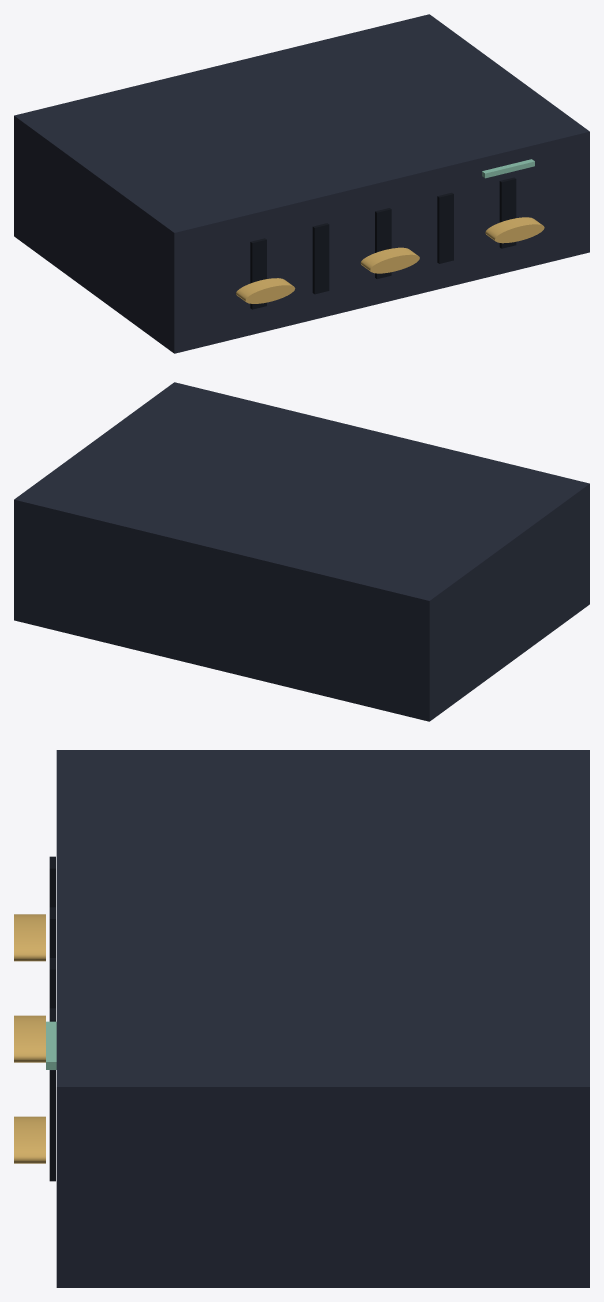
Rendered from audio-interface.glb.
The picture shows the model from 3 angles, top to bottom: view 1: azimuth 30°, elevation 25°; view 2: azimuth 150°, elevation 25°; view 3: azimuth 270°, elevation 25°; orthographic projection. The views are drawn at different scales.
Parts seen in each view (by area): view 1: audio-interface; view 2: audio-interface; view 3: audio-interface.
Boxes of the visible parts, left/top/right/bottom form: audio-interface: left=14, top=14, right=589, bottom=353; audio-interface: left=14, top=382, right=589, bottom=721; audio-interface: left=14, top=750, right=589, bottom=1287.
Bounding box in the file's own units: 18 × 5 × 13.
